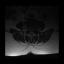CCS_severe_stenosis: (30, 29, 32, 34)
LFS_stenosis: (33, 27, 35, 32)
LLS_stenosis: (32, 28, 33, 33)
RFS_stenosis: (27, 27, 29, 32)
RLS_stenosis: (29, 28, 30, 33)
